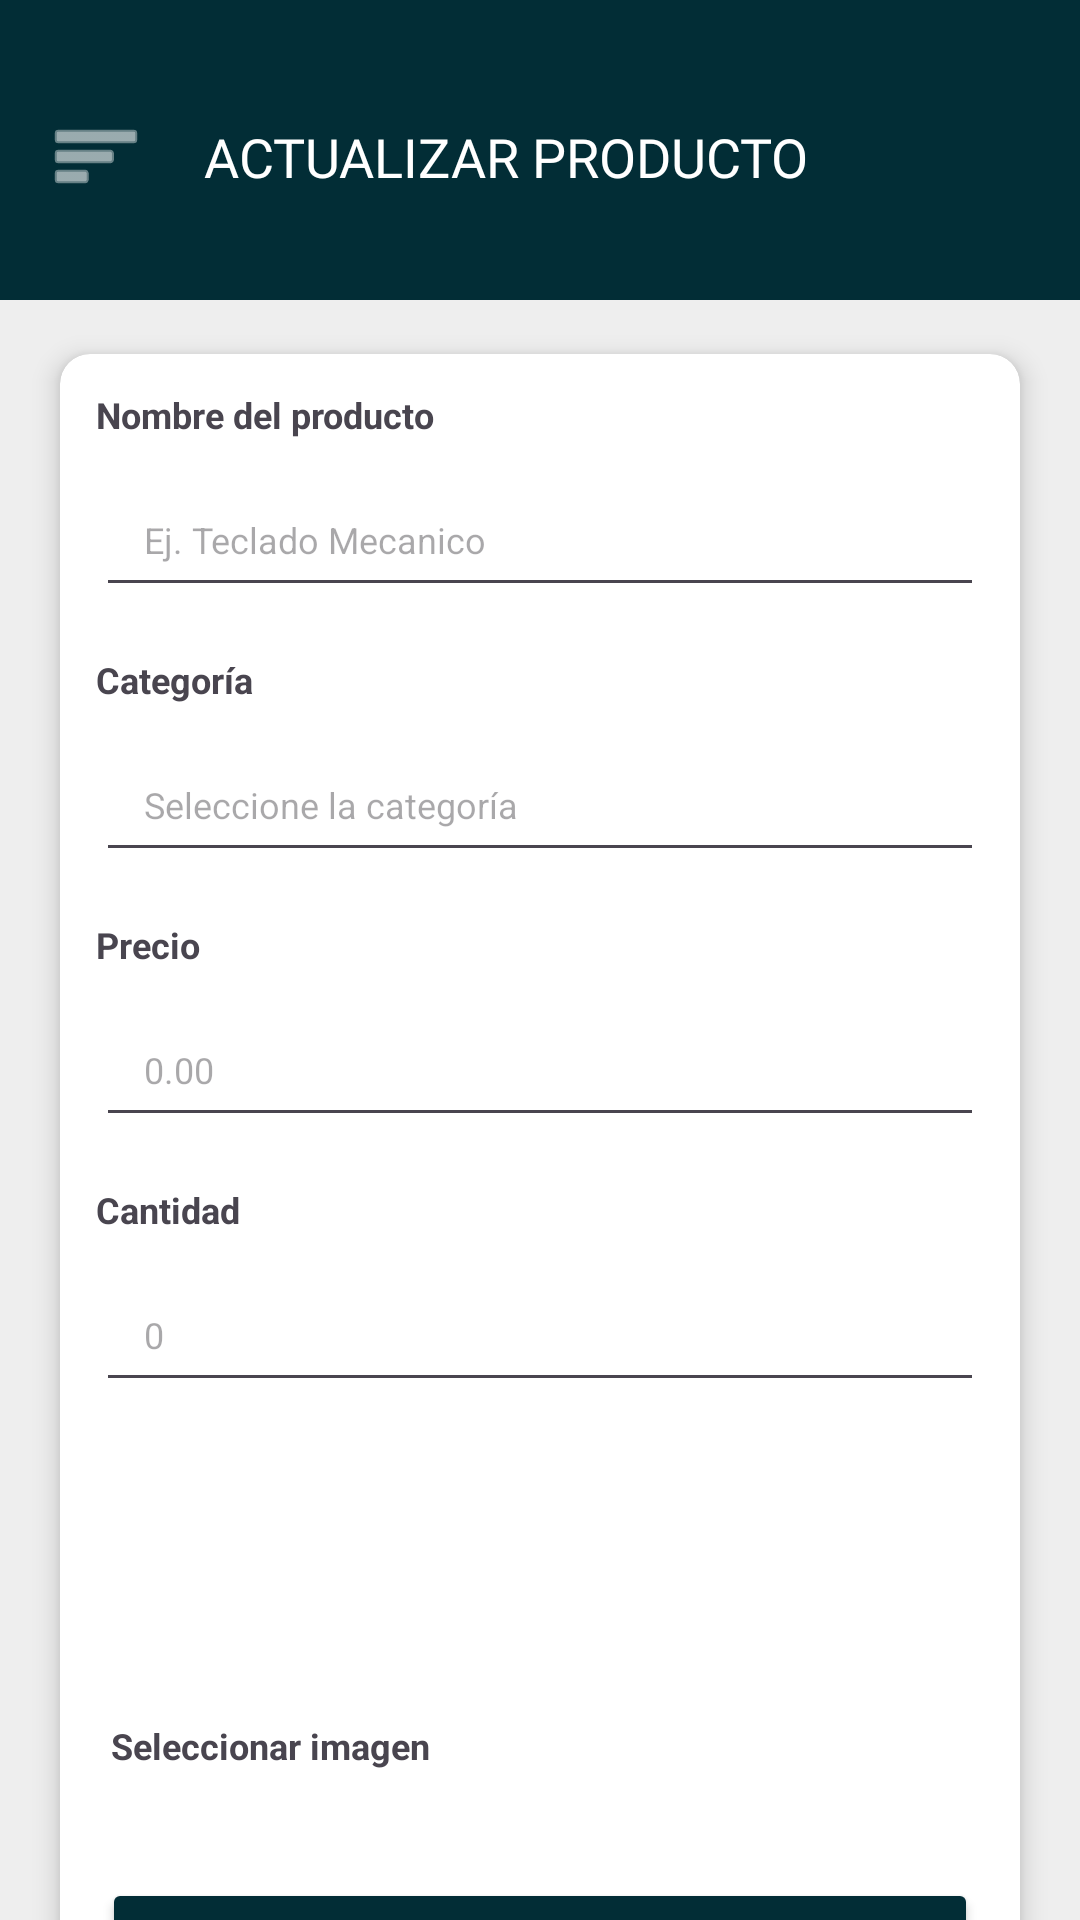

Screen size 1080px x 1920px. Icon name, then its center in pixels as point (x, y):
Abrir menú: point (96, 156)
